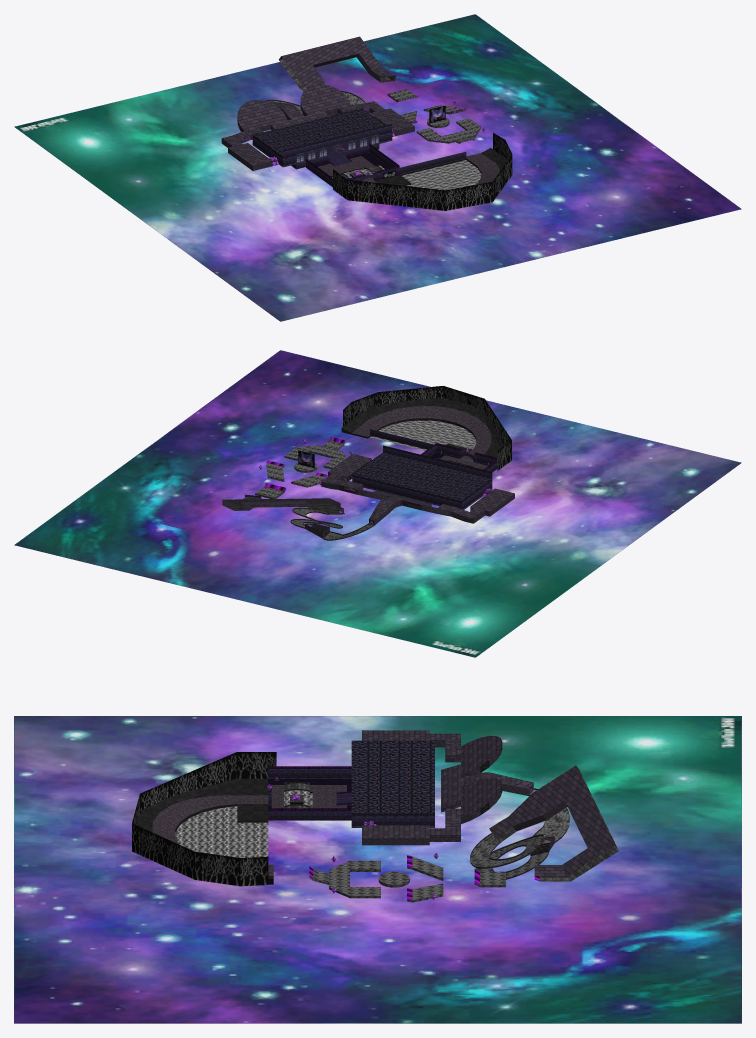
The picture shows the model from 3 angles, top to bottom: view 1: azimuth 30°, elevation 25°; view 2: azimuth 150°, elevation 25°; view 3: azimuth 270°, elevation 25°; orthographic projection. The views are drawn at different scales.
Parts seen in each view (by area): view 1: course-SKP--fondo.002, course-SKP--techo1bo, course-SKP--Material13.002, course-SKP--pbo, course-SKP--wtechobo, course-SKP--zsemi1bo, course-SKP--Zwater, course-SKP--Material28, course-SKP--ventana, course-SKP--semi9bo, course-SKP--pm1; view 2: course-SKP--fondo.002, course-SKP--wtechobo, course-SKP--pbo, course-SKP--techo1bo, course-SKP--Material13.002, course-SKP--Material28, course-SKP--zsemi1bo, course-SKP--pm1, course-SKP--Zwater, course-SKP--pmbo, course-SKP--pmaderabo, course-SKP--semi9bo; view 3: course-SKP--fondo.002, course-SKP--techo1bo, course-SKP--Material13.002, course-SKP--wtechobo, course-SKP--zsemi1bo, course-SKP--Zwater, course-SKP--Material28, course-SKP--pbo, course-SKP--pm1, course-SKP--semi9bo, course-SKP--pmaderabo, course-SKP--semi7 (+2 smaller).
Part boxes in pixels (x1,y1,x2,y2): course-SKP--fondo.002: (14, 14, 741, 321); course-SKP--techo1bo: (222, 36, 414, 165); course-SKP--Material13.002: (333, 133, 512, 210); course-SKP--pbo: (252, 123, 466, 187); course-SKP--wtechobo: (253, 108, 384, 156); course-SKP--zsemi1bo: (267, 89, 480, 143); course-SKP--Zwater: (331, 160, 481, 190); course-SKP--Material28: (317, 153, 499, 184); course-SKP--ventana: (296, 133, 379, 162); course-SKP--semi9bo: (228, 53, 414, 170); course-SKP--pm1: (375, 148, 507, 185); course-SKP--fondo.002: (14, 350, 741, 657); course-SKP--wtechobo: (352, 452, 491, 501); course-SKP--pbo: (352, 429, 497, 509); course-SKP--techo1bo: (223, 454, 514, 520); course-SKP--Material13.002: (343, 386, 511, 470); course-SKP--Material28: (352, 406, 491, 468); course-SKP--zsemi1bo: (255, 440, 372, 539); course-SKP--pm1: (341, 397, 503, 457); course-SKP--Zwater: (370, 420, 483, 469); course-SKP--pmbo: (305, 472, 489, 537); course-SKP--pmaderabo: (223, 458, 481, 514); course-SKP--semi9bo: (222, 459, 514, 525); course-SKP--fondo.002: (14, 716, 741, 1023); course-SKP--techo1bo: (362, 730, 614, 876); course-SKP--Material13.002: (132, 752, 276, 886); course-SKP--wtechobo: (351, 740, 434, 813); course-SKP--zsemi1bo: (309, 789, 569, 902); course-SKP--Zwater: (175, 782, 312, 857); course-SKP--Material28: (152, 785, 346, 875); course-SKP--pbo: (268, 769, 434, 827); course-SKP--pm1: (137, 778, 273, 878); course-SKP--semi9bo: (362, 766, 579, 845); course-SKP--pmaderabo: (284, 770, 618, 881); course-SKP--semi7: (283, 781, 549, 879).
Bounding box in the file's own units: 140000 × 18756 × 140000.
34 materials, 34 textured.
